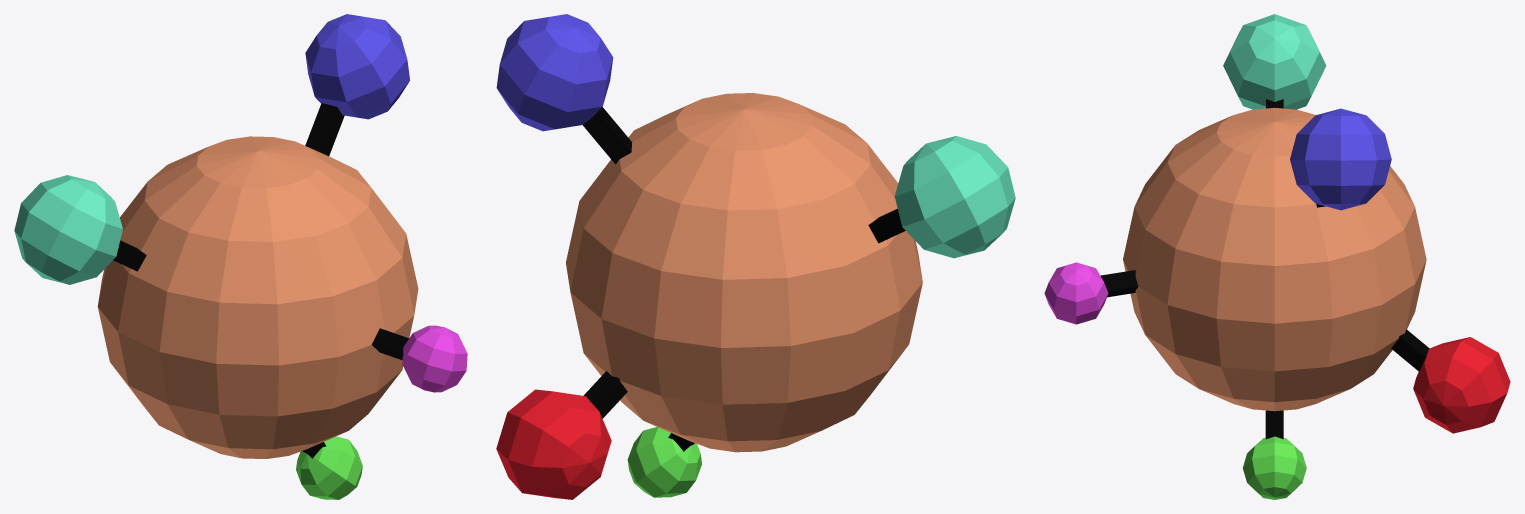
File: Planet4.fbx
3 views of the same model, side by side, from view 1: azimuth 30°, elevation 25°; view 2: azimuth 150°, elevation 25°; view 3: azimuth 270°, elevation 25° (orthographic). The views are drawn at different scales.
Parts seen in each view (by area): view 1: Planet4; view 2: Planet4; view 3: Planet4.
Part boxes in pixels (box(x1,y1,x2,y2)): Planet4: box(14, 14, 467, 499); Planet4: box(496, 14, 1015, 499); Planet4: box(1044, 14, 1510, 499).
Bounding box in the file's own units: 254 × 255 × 261.
